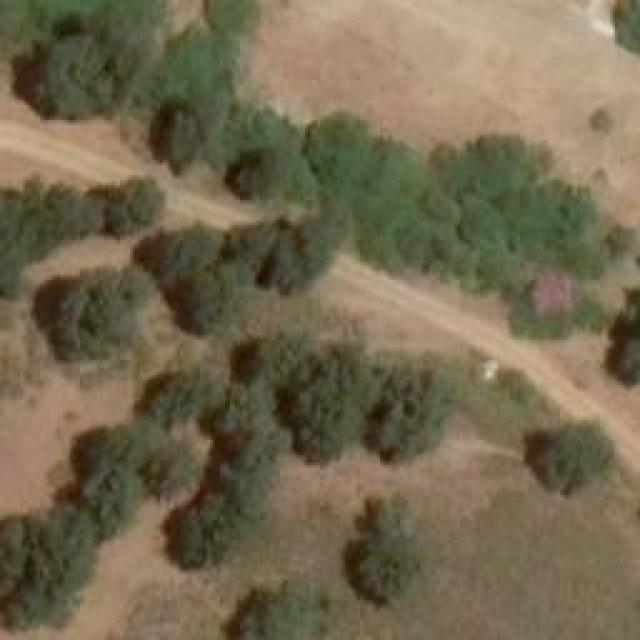Tree: (0, 508, 98, 633), (73, 423, 186, 526), (40, 268, 153, 363), (18, 30, 128, 118), (231, 213, 349, 292), (338, 495, 418, 603), (288, 340, 358, 463), (368, 370, 448, 463), (520, 423, 608, 496), (162, 271, 241, 348), (136, 358, 222, 428), (163, 493, 238, 573), (232, 582, 320, 640), (140, 225, 228, 280), (153, 105, 208, 170), (230, 153, 293, 206), (235, 330, 298, 383), (92, 175, 150, 228), (460, 198, 505, 251), (203, 0, 258, 40), (605, 0, 640, 60), (607, 337, 640, 380), (420, 193, 455, 228), (587, 103, 615, 136), (605, 225, 633, 255)
